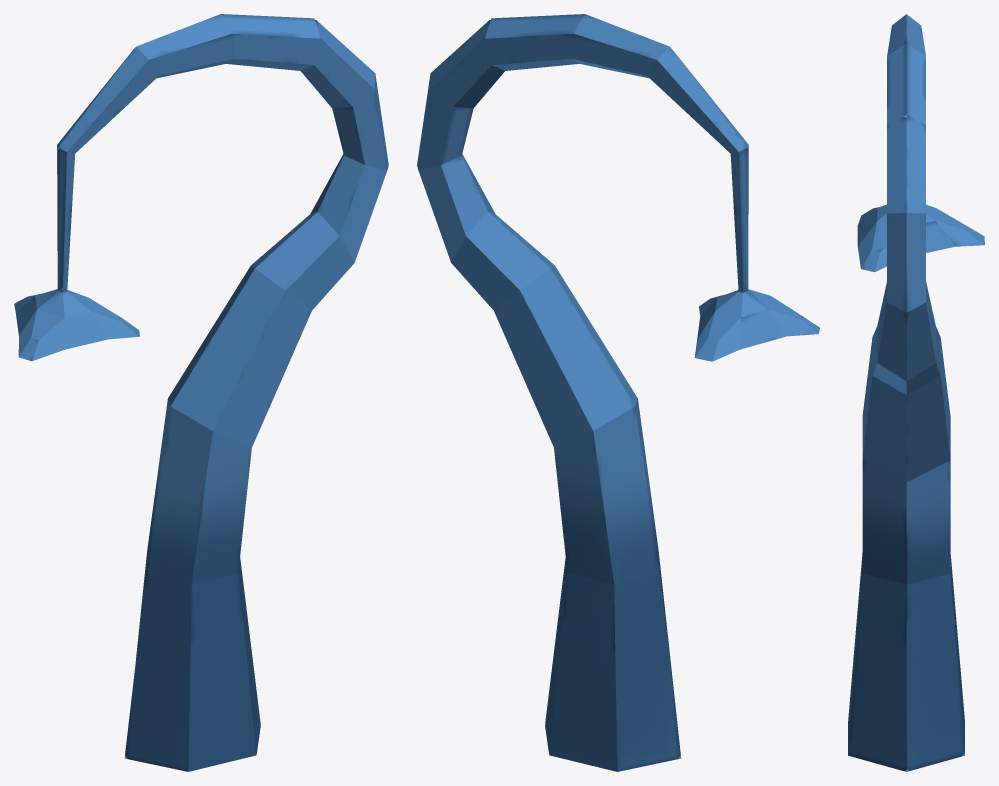
File: frostPodless.fbx
3 renders of one model, left to right at view 1: azimuth 30°, elevation 25°; view 2: azimuth 150°, elevation 25°; view 3: azimuth 270°, elevation 25°, orthographic.
Visible parts, largest first — view 1: cylinder; view 2: cylinder; view 3: cylinder.
Boxes of the visible parts, x1=… form: cylinder: x1=14, y1=14, x2=388, y2=771; cylinder: x1=417, y1=14, x2=819, y2=771; cylinder: x1=848, y1=14, x2=984, y2=771.
Size of the model in its own units: 56.17 by 100 by 17.54.
1 material, 1 textured.
